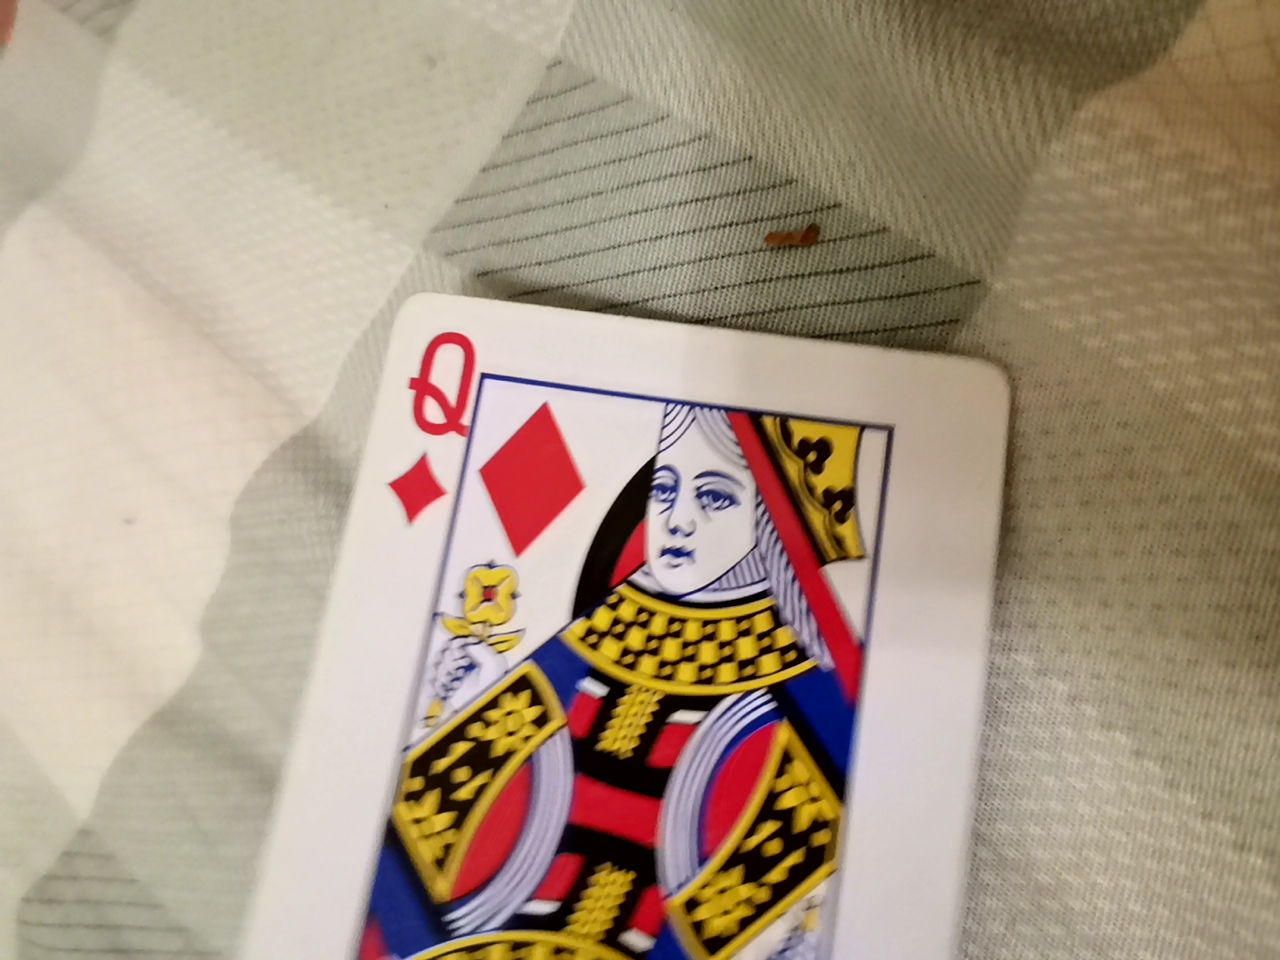fk q: (146, 268, 1025, 957)
